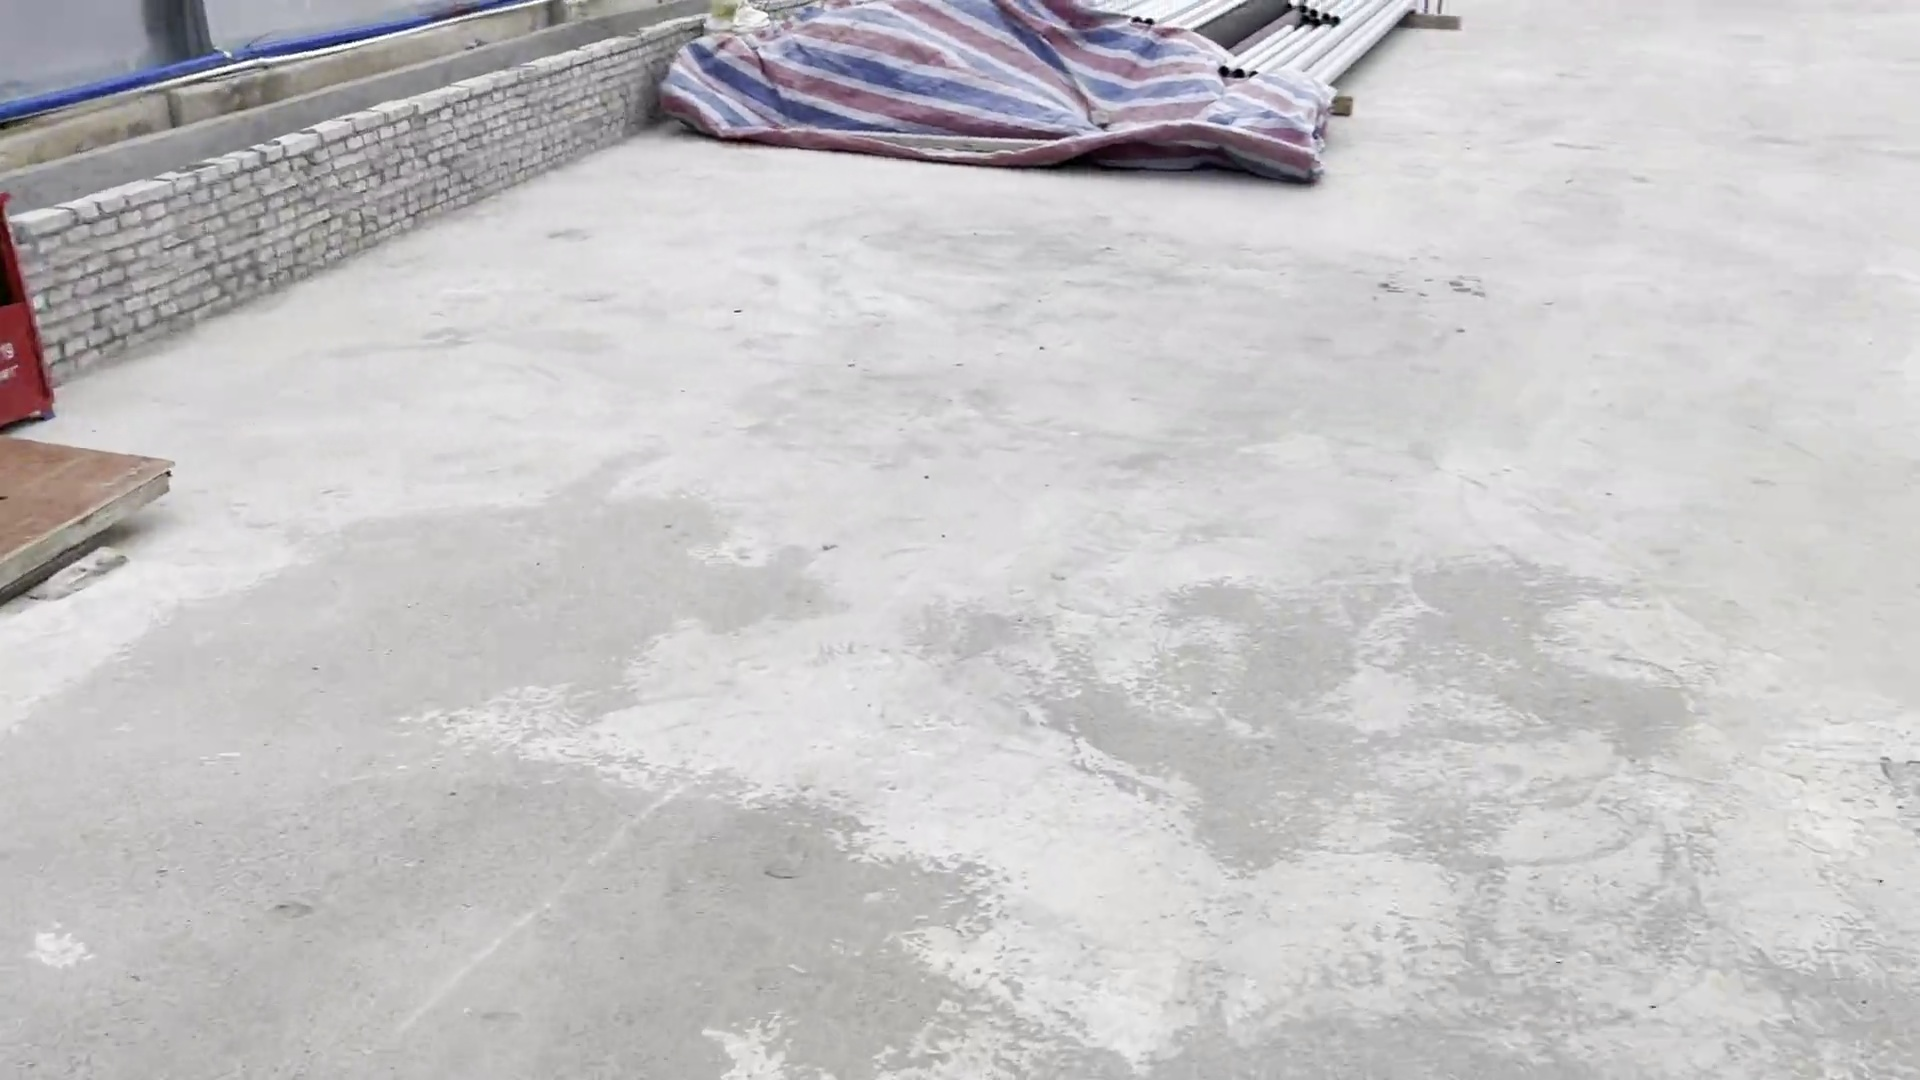board: (3, 392, 191, 626)
brick: (11, 7, 690, 419)
